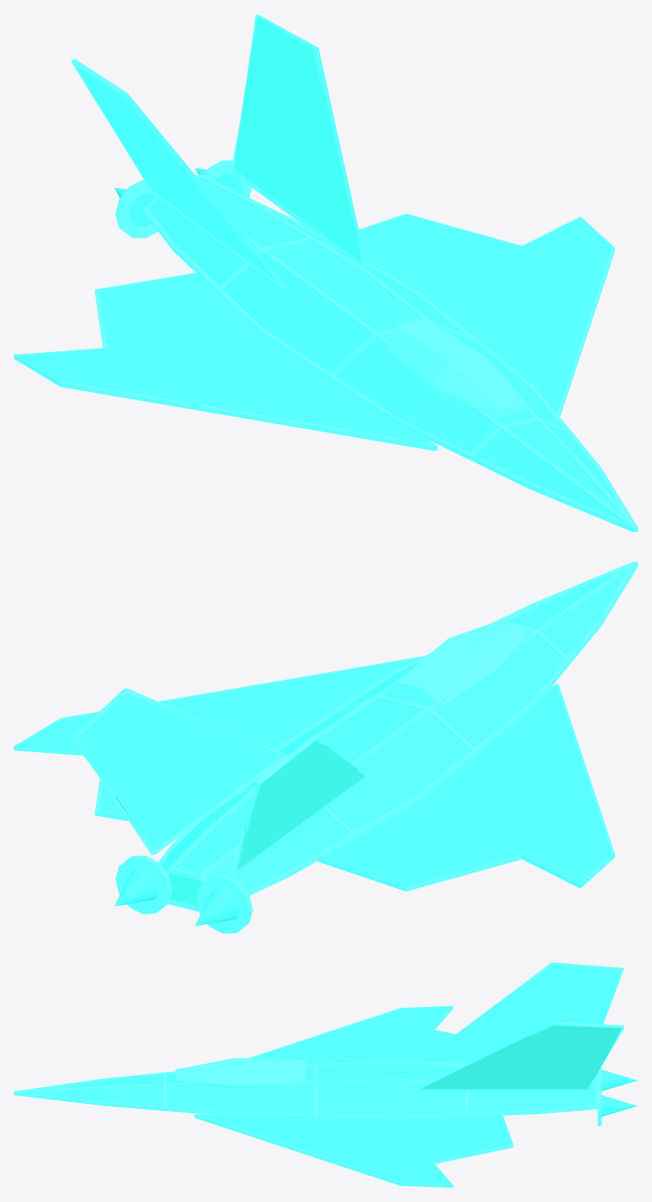
File: decoy.glb
The picture shows the model from 3 angles, top to bottom: view 1: azimuth 30°, elevation 25°; view 2: azimuth 150°, elevation 25°; view 3: azimuth 270°, elevation 25°; orthographic projection. The views are drawn at different scales.
Visible parts, largest first — view 1: decoy; view 2: decoy; view 3: decoy.
Boxes of the visible parts, <box> form: decoy: <box>14,14,637,532</box>; decoy: <box>14,561,637,933</box>; decoy: <box>14,962,637,1187</box>.
Size of the model in its own units: 4.22 by 1.31 by 6.2.
